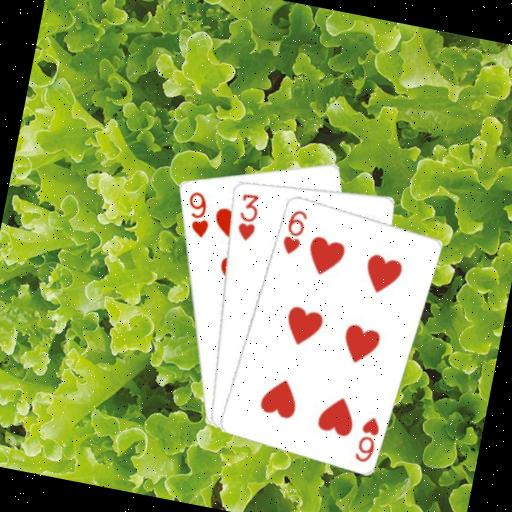3H: (232, 189, 263, 243)
6H: (277, 204, 310, 258), (350, 412, 383, 466)
9H: (178, 186, 216, 240)
